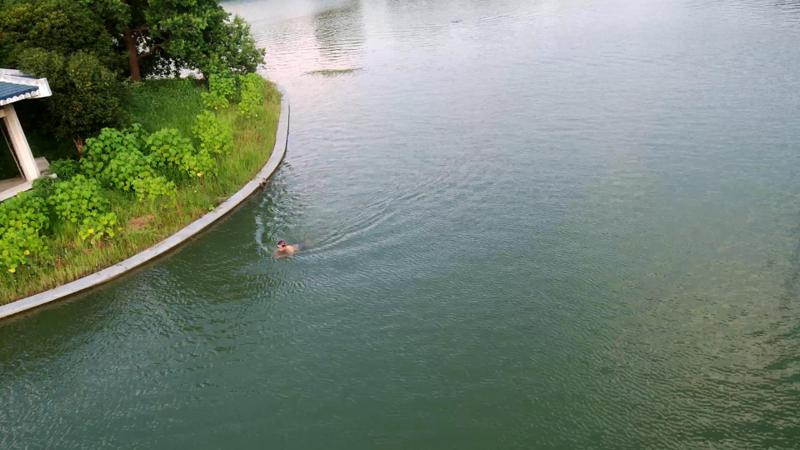swimmers: (272, 240, 307, 259)
